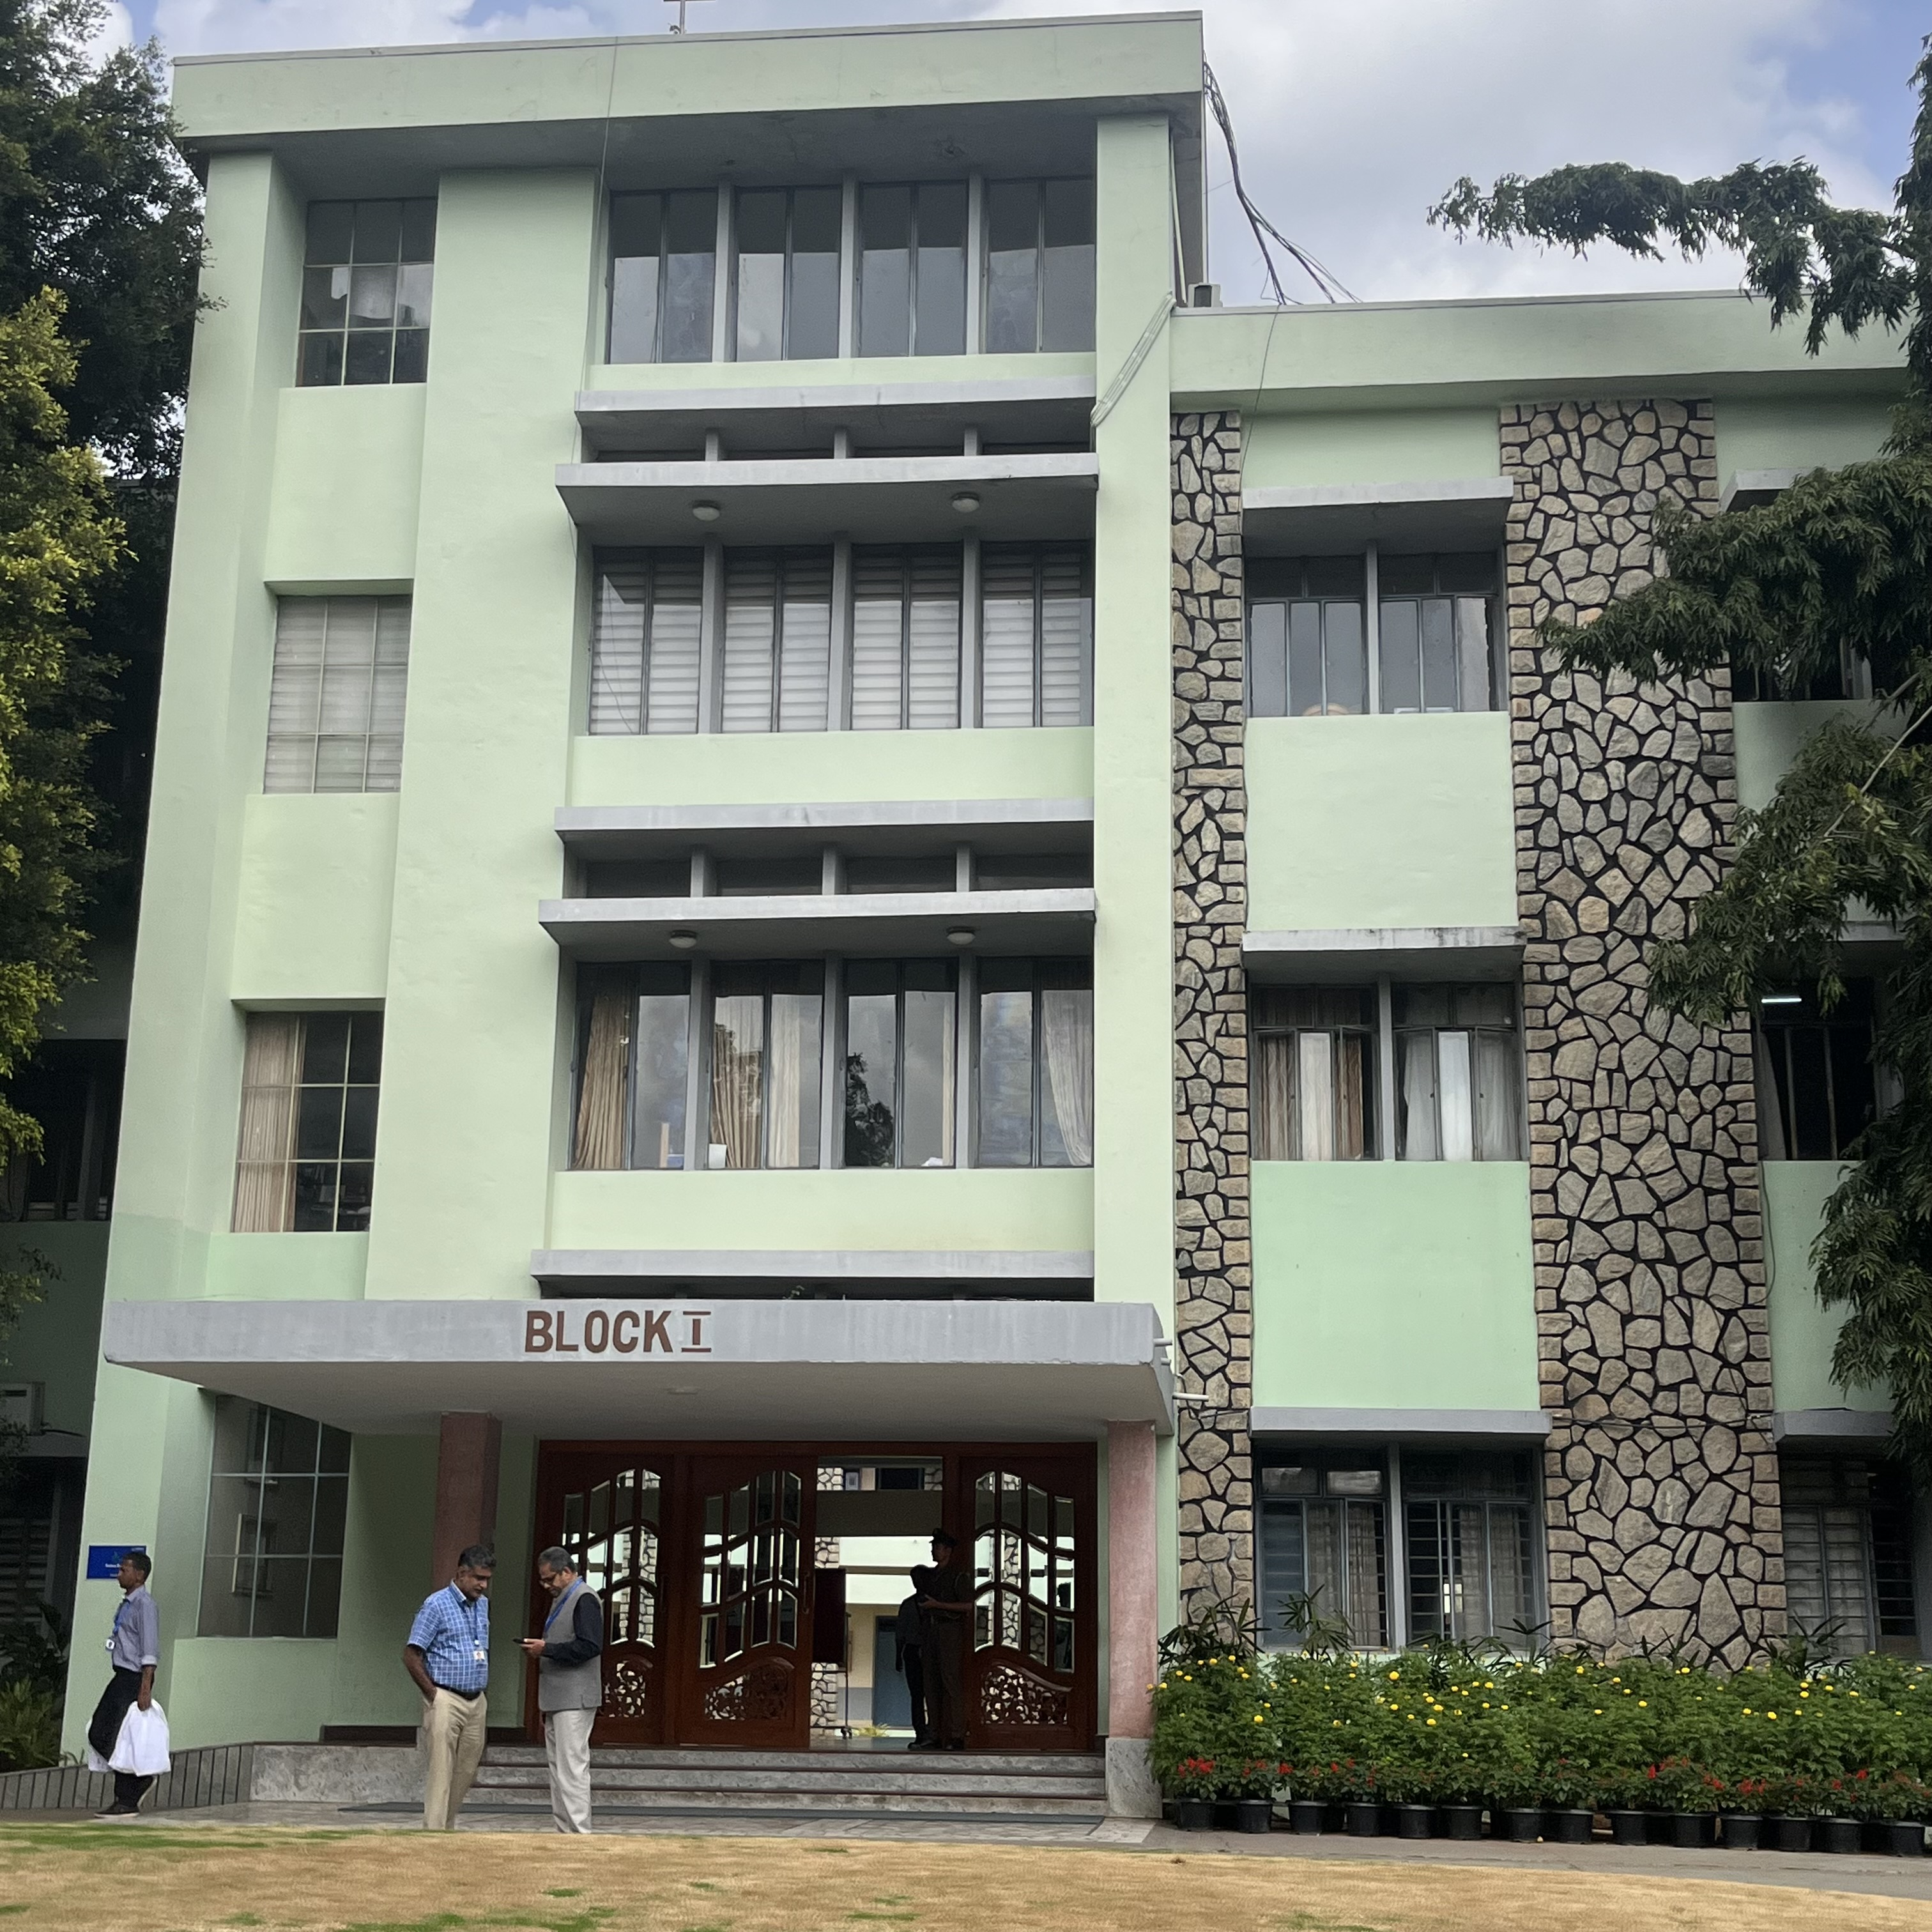Block 1: (138, 42, 1780, 1649)
